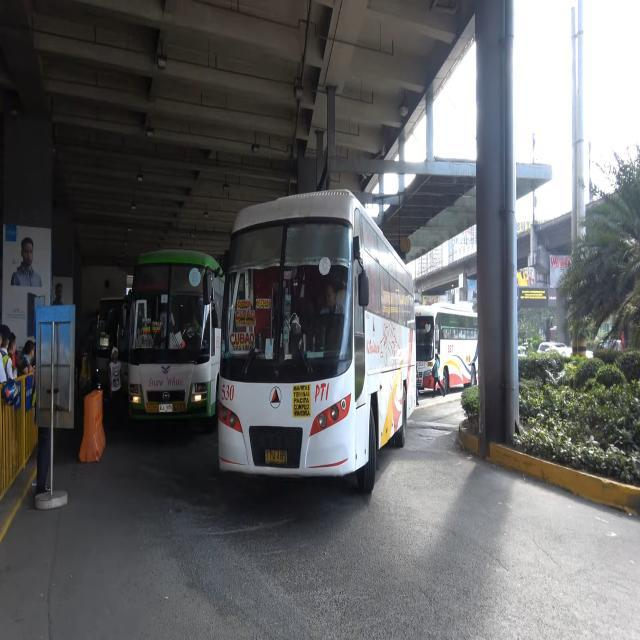bus: (216, 187, 417, 502), (123, 246, 225, 428), (416, 302, 479, 392)
